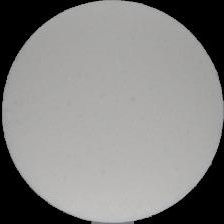53489-216: (0, 0, 224, 224)
